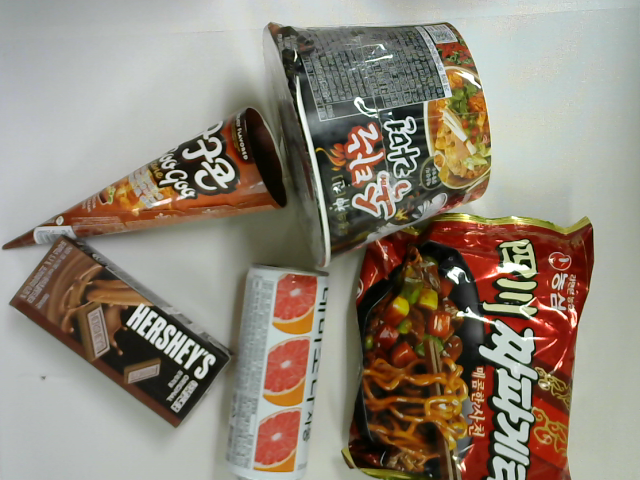Demisoda_Grapefruit_Can_250ml: (210, 254, 339, 480)
GooGoo_Cone_CVS: (1, 98, 297, 270)
HeJangsock: (262, 11, 501, 283)
Hush_Choco_Drink: (1, 232, 245, 436)
Sichuan_Chapaghetti: (335, 198, 604, 480)
